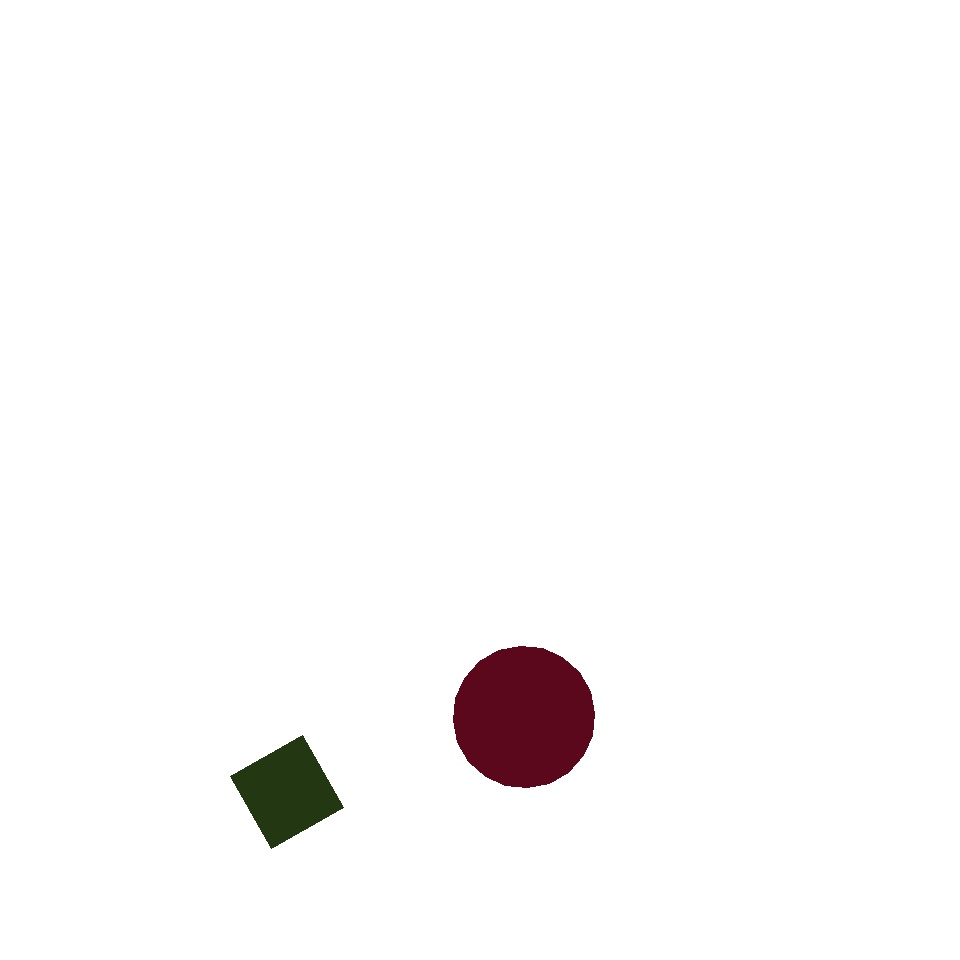square: (34, 634, 284, 882), (554, 133, 781, 360), (230, 736, 344, 848)
triangle: (453, 646, 594, 788)
